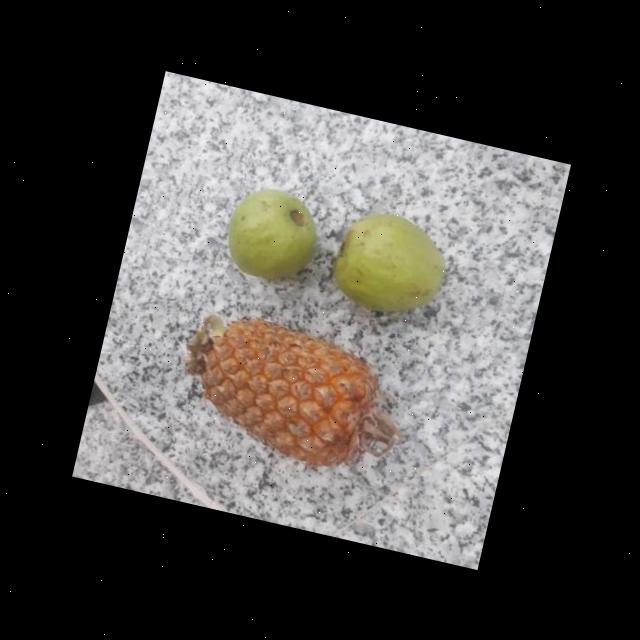guava: (330, 200, 450, 324), (218, 174, 326, 285)
pineapple: (170, 304, 392, 475)
